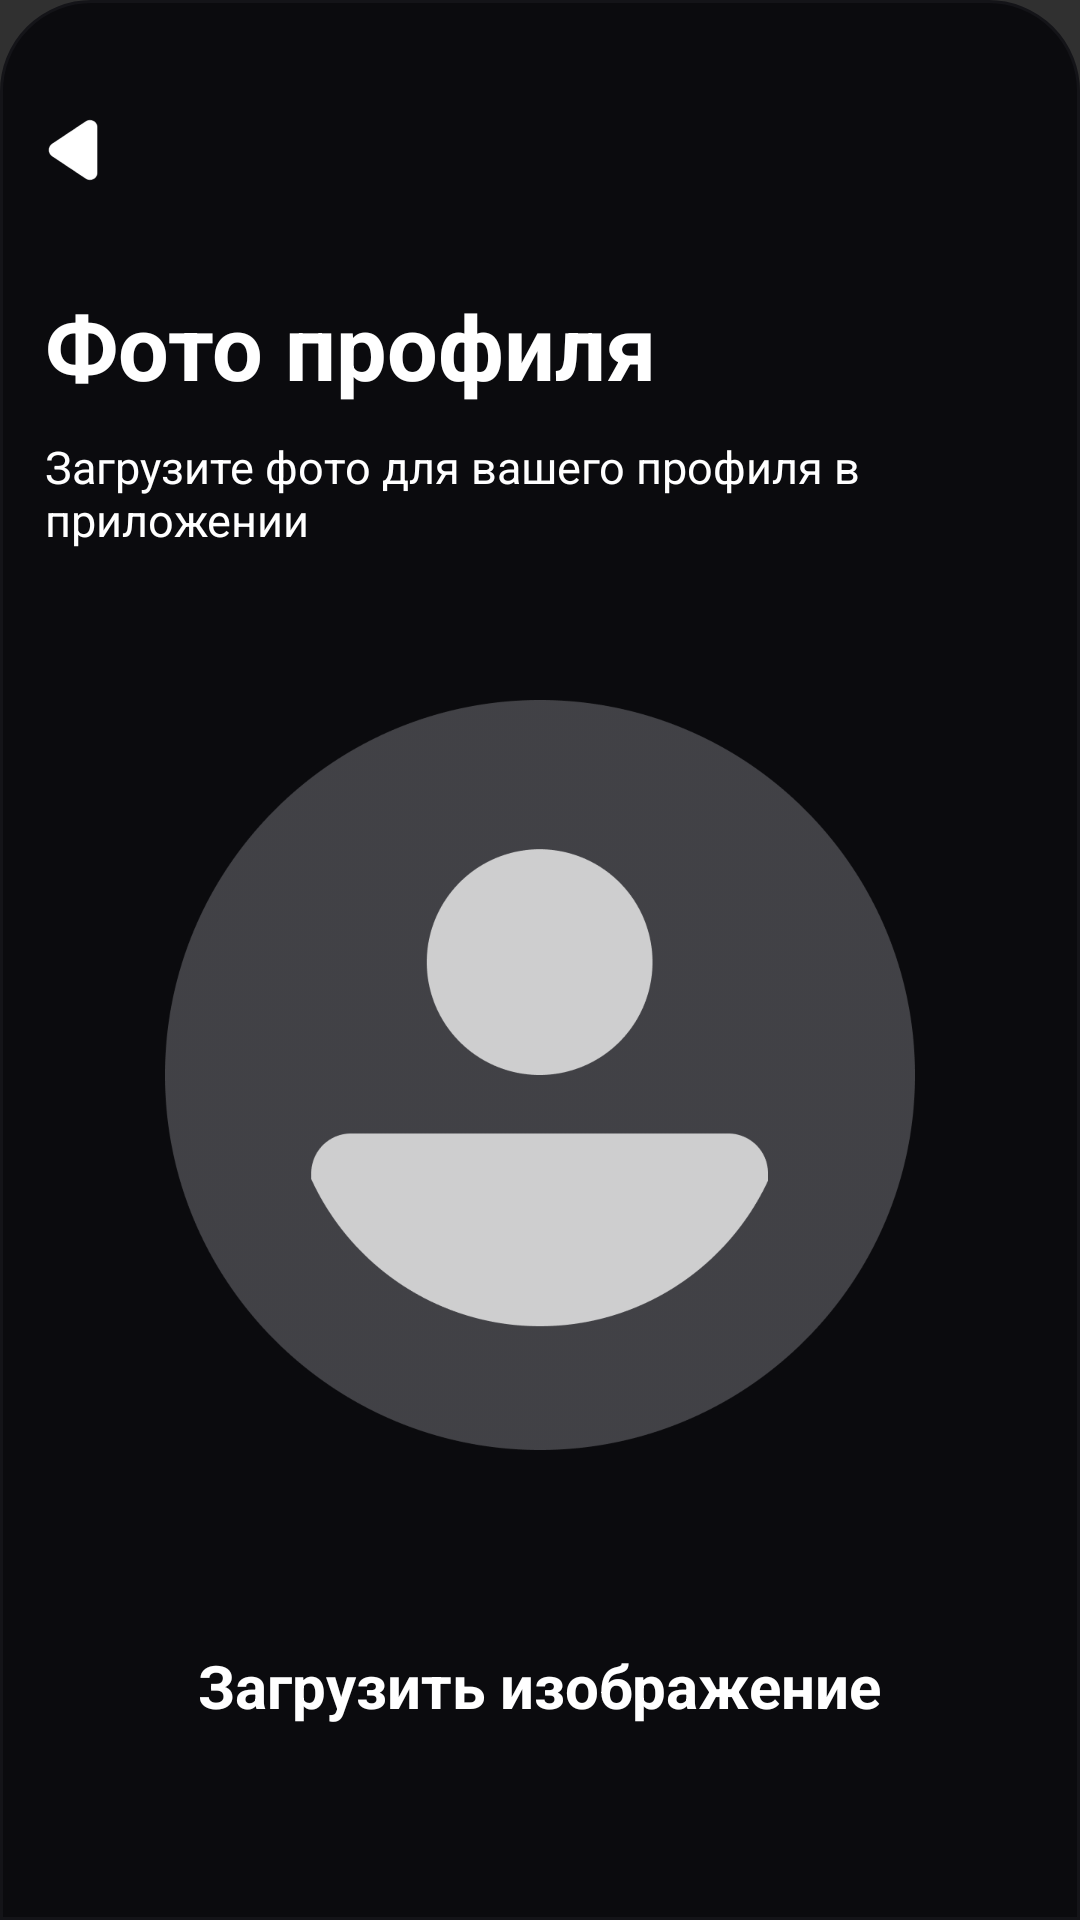

Icon bounding boxes for this 1080x1920 phone screenshot, format (x1, y1, x2, y2):
back: (48, 120, 98, 180)
